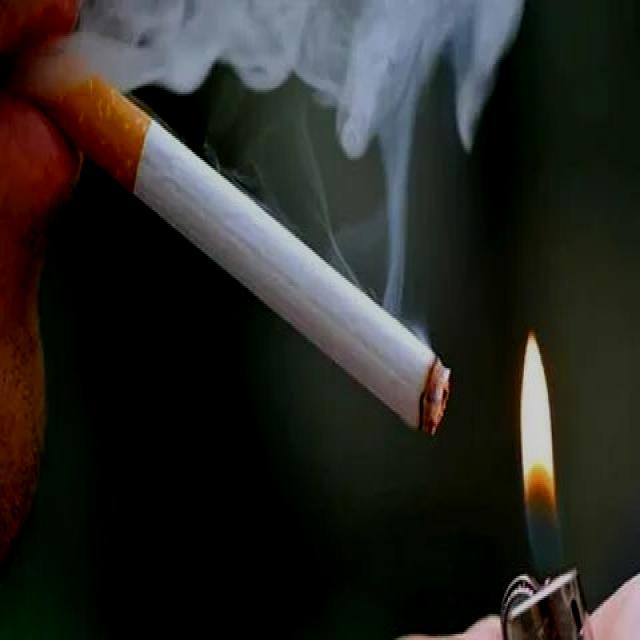smoke: (38, 32, 454, 440)
